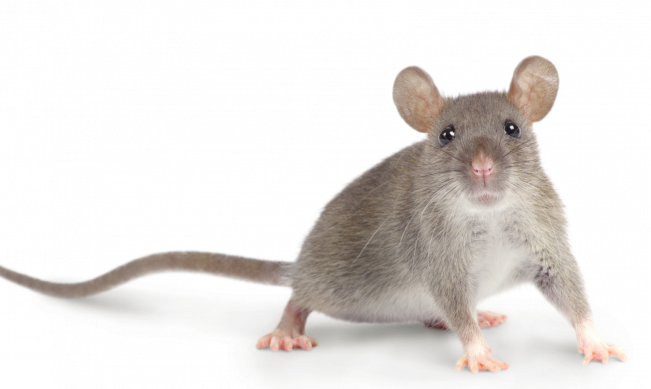rat: (155, 48, 651, 389)
